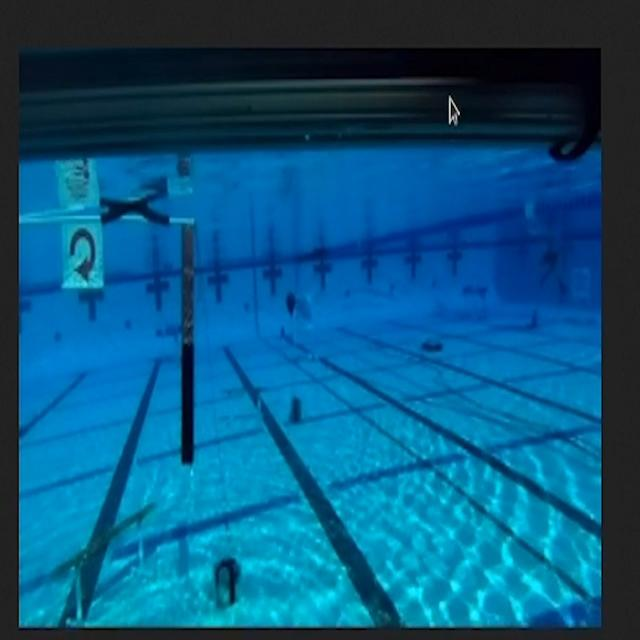Gate: (20, 201, 204, 478)
Path: (48, 492, 161, 622)
